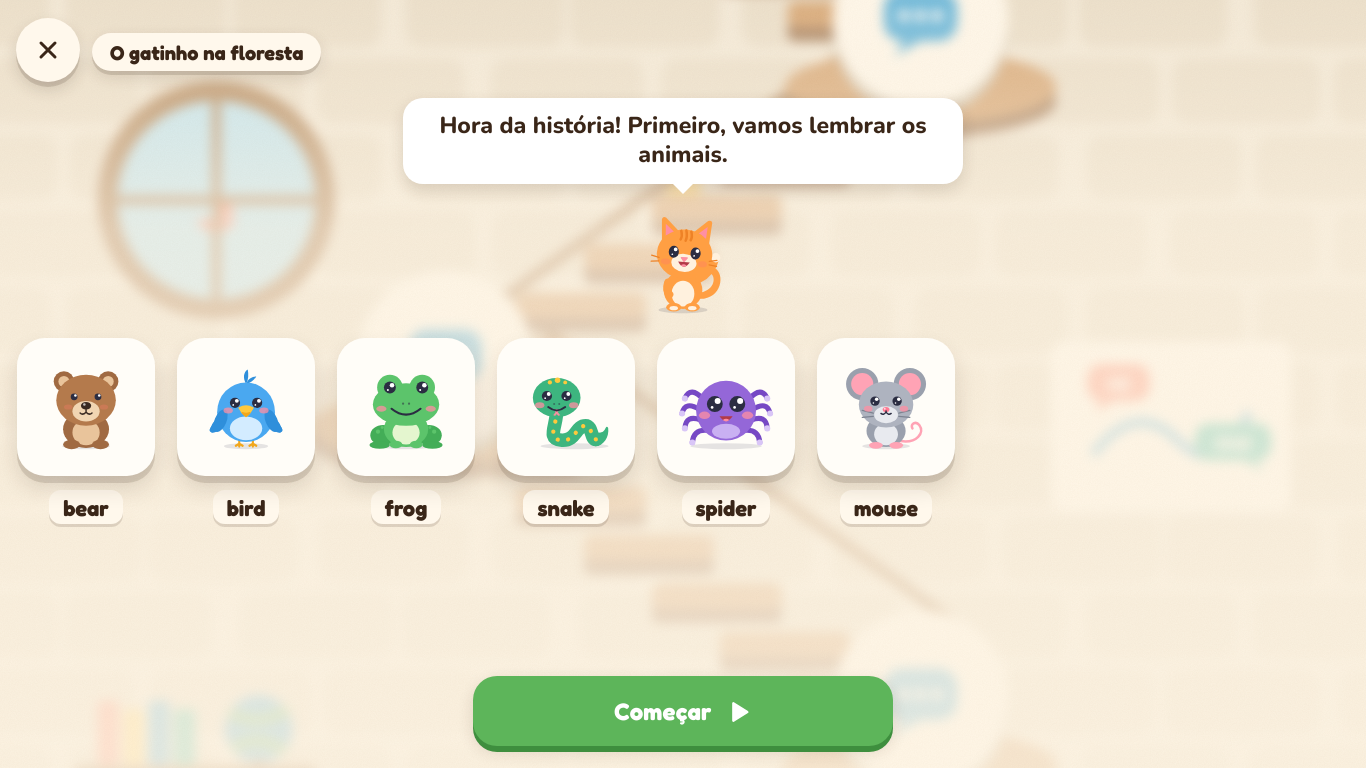
Test: StoryStop › says the opening and starts with the warmup exercise
Click the button "Começar" at (683, 711), box x1=473 y1=676 x2=893 y2=746
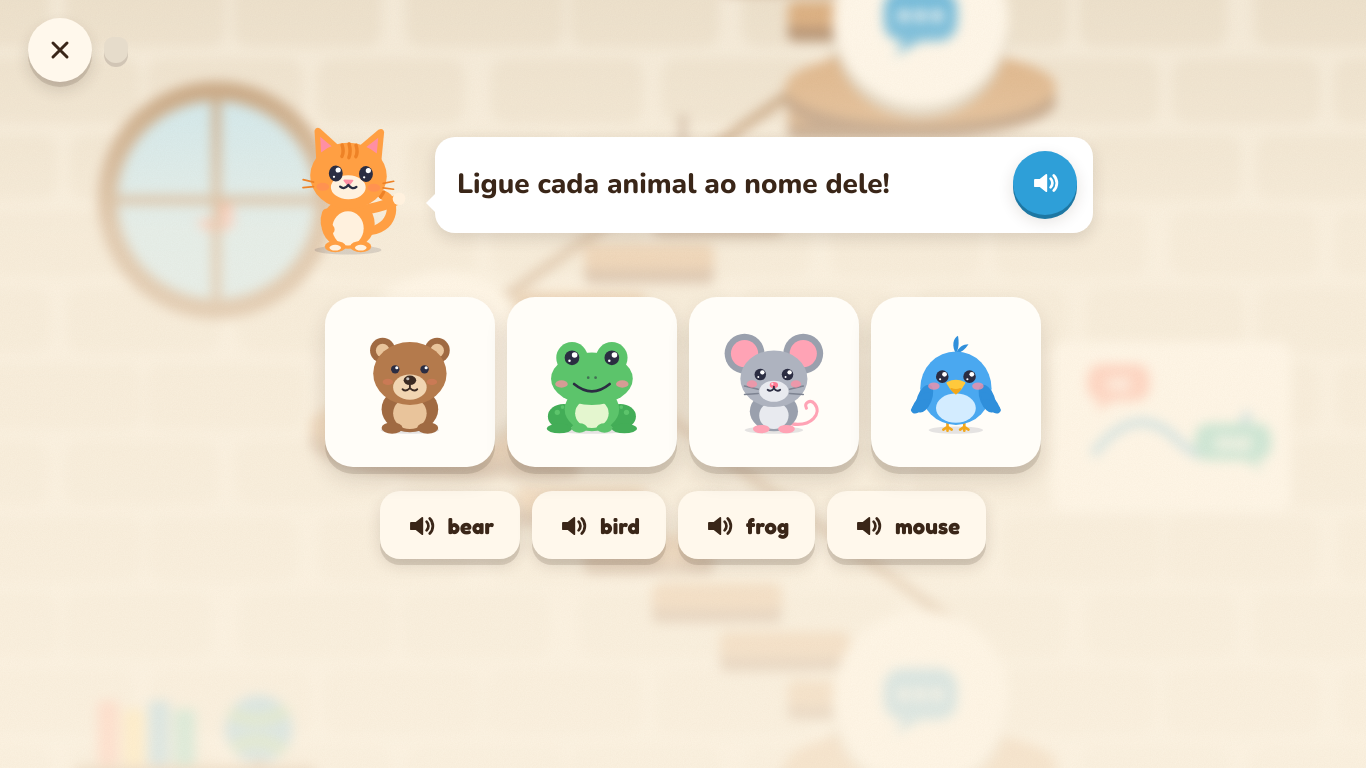
Check: the element with test id "feedback-area" is shown, box x1=0 y1=644 x2=1365 y2=767
